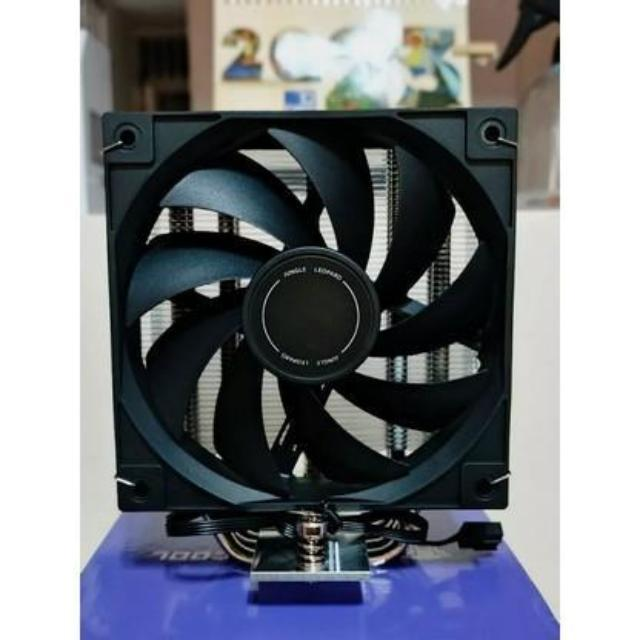CPU_Fan: (98, 107, 518, 585)
